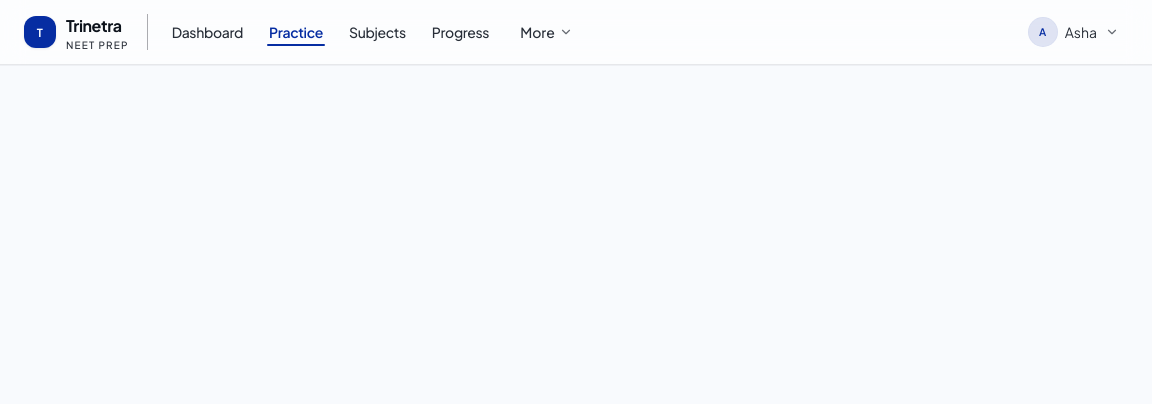
it: Phase A7 desktop navigation › opens More with Study tools and Account groups (destinations unchanged)
This screenshot has width=1152, height=404.
Click the button with aria-label "More navigation": (546, 32) [509,14,584,50]
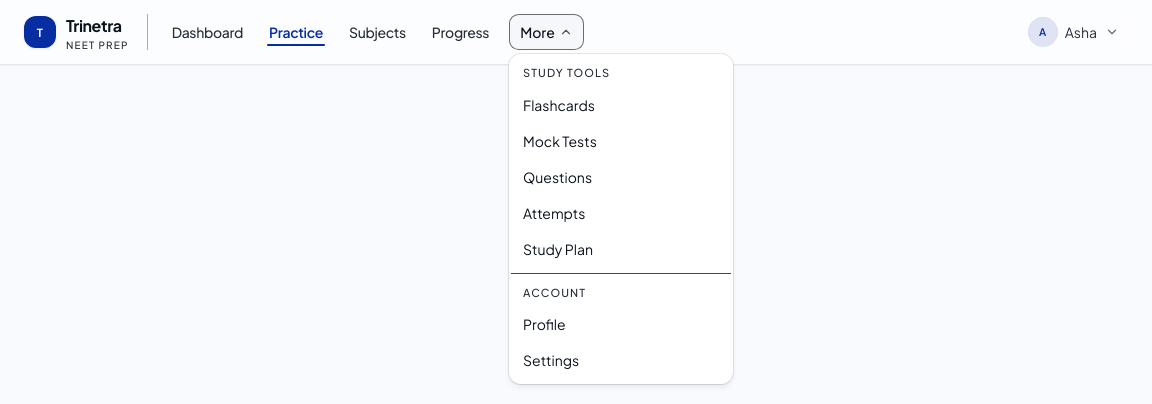
Result: the text "Study tools" is shown at [523,66,610,79]
Result: the text "Account" is shown at [523,286,586,299]
Result: the menu item "Flashcards" is shown at [523,96,595,114]
